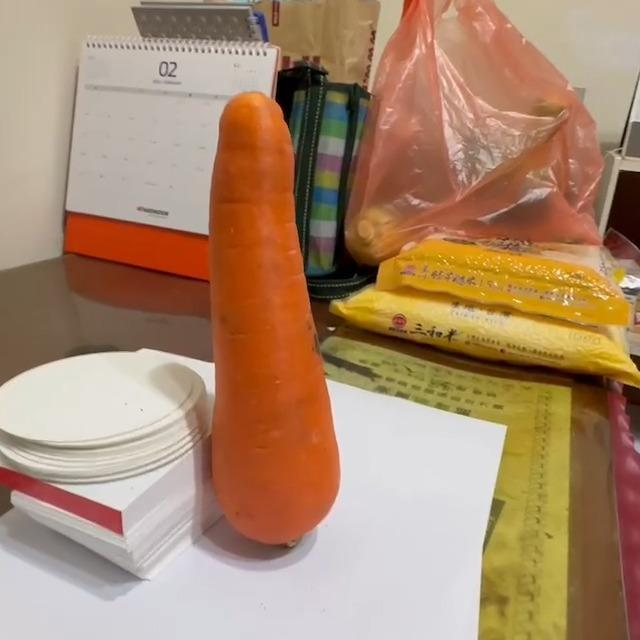carrot: (209, 95, 344, 549)
